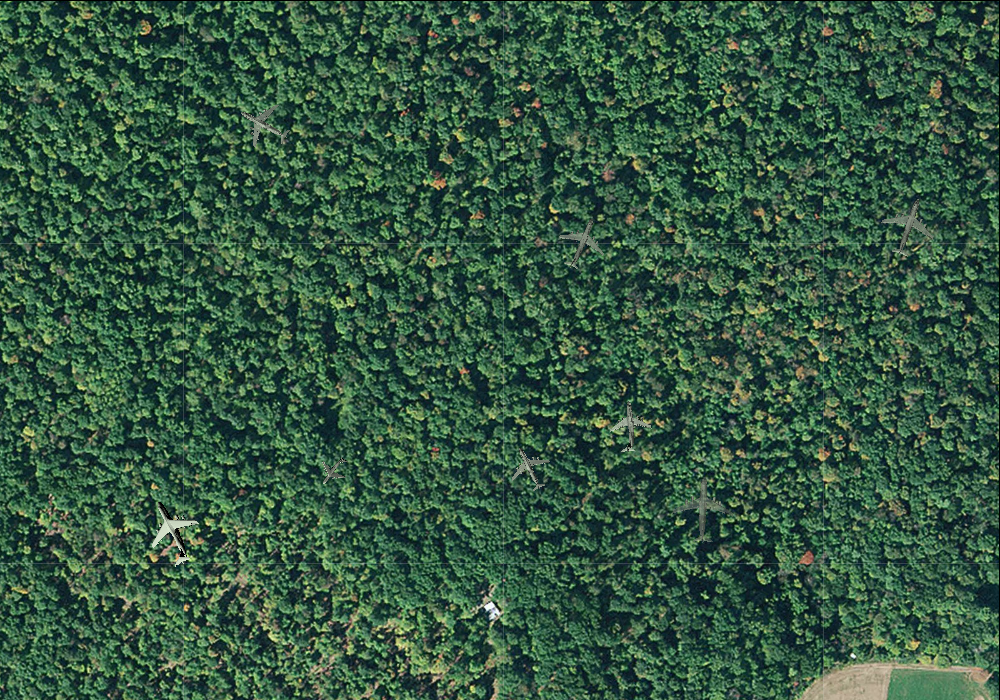plane: (128, 489, 214, 576), (873, 190, 944, 264), (228, 90, 298, 158), (547, 208, 615, 277), (670, 475, 737, 545), (500, 438, 559, 498), (602, 398, 655, 454), (311, 448, 356, 494)
